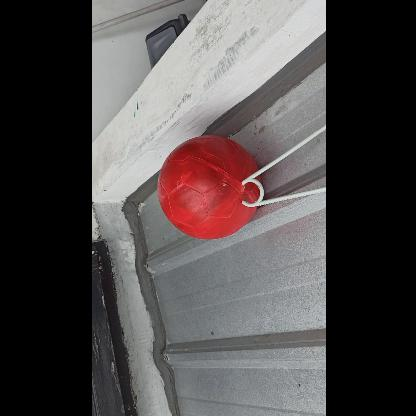red_ball: (155, 136, 259, 240)
